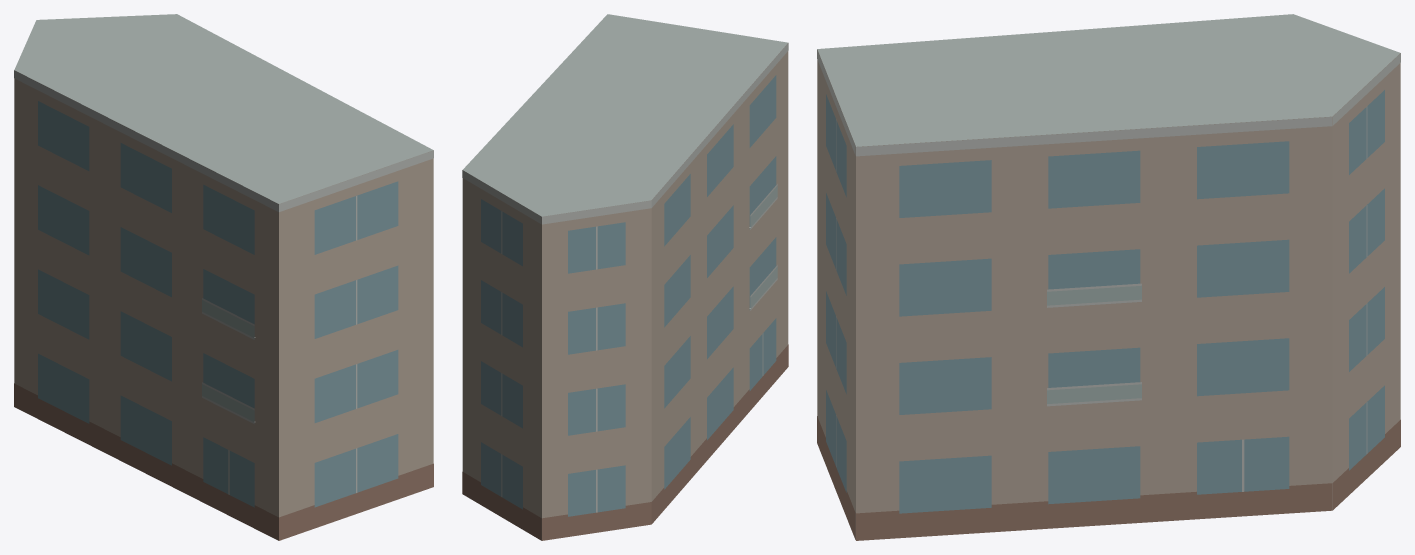
Rendered from survey-upis-32711660.glb.
The picture shows the model from 3 angles, left to right: view 1: azimuth 30°, elevation 25°; view 2: azimuth 150°, elevation 25°; view 3: azimuth 270°, elevation 25°; orthographic projection. The views are drawn at different scales.
Parts seen in each view (by area): view 1: survey-upis-32711660.tmp; view 2: survey-upis-32711660.tmp; view 3: survey-upis-32711660.tmp.
Boxes of the visible parts, left/top/right/bottom form: survey-upis-32711660.tmp: left=14, top=14, right=433, bottom=540; survey-upis-32711660.tmp: left=462, top=14, right=788, bottom=540; survey-upis-32711660.tmp: left=817, top=14, right=1400, bottom=540.
Size of the model in its own units: 7.27 by 10.04 by 13.49.
